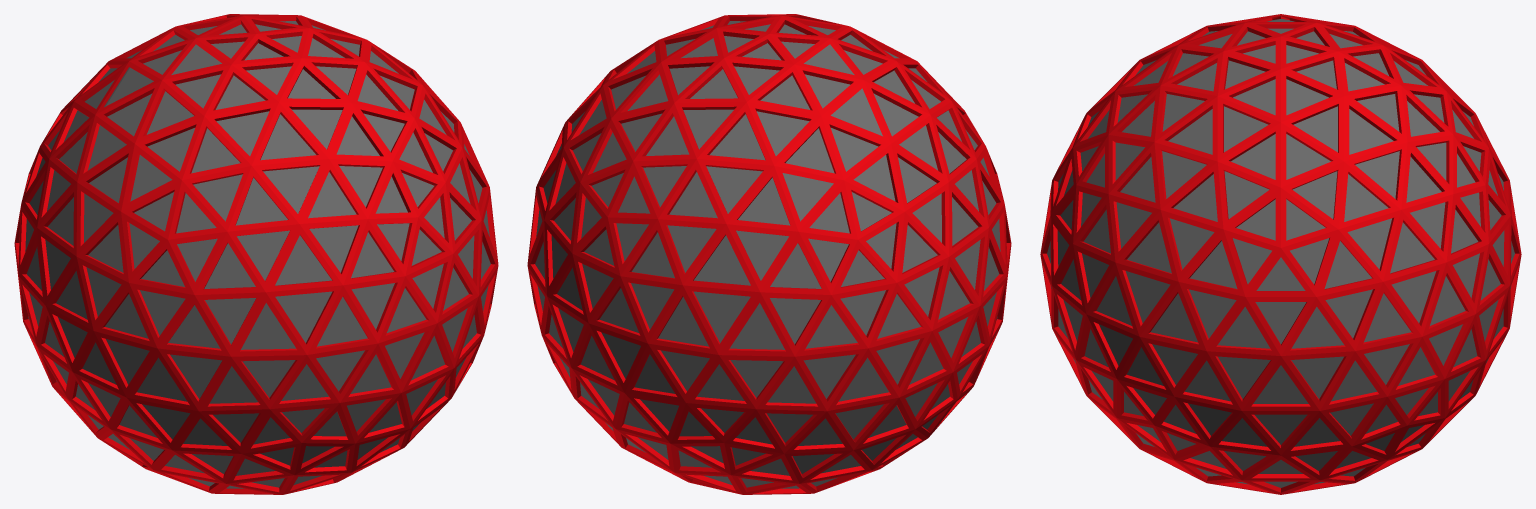
The model's file is weird_sphere.fbx.
3 renders of one model, left to right at view 1: azimuth 30°, elevation 25°; view 2: azimuth 150°, elevation 25°; view 3: azimuth 270°, elevation 25°, orthographic.
Parts seen in each view (by area): view 1: Icosphere, Icosphere.001; view 2: Icosphere, Icosphere.001; view 3: Icosphere, Icosphere.001.
Boxes of the visible parts, x1,y1,x2,y2 form: Icosphere: (14, 14, 498, 494); Icosphere.001: (25, 21, 490, 488); Icosphere: (527, 14, 1011, 494); Icosphere.001: (535, 21, 1000, 488); Icosphere: (1040, 14, 1521, 494); Icosphere.001: (1047, 19, 1514, 487).
Size of the model in its own units: 200 by 200 by 200.
